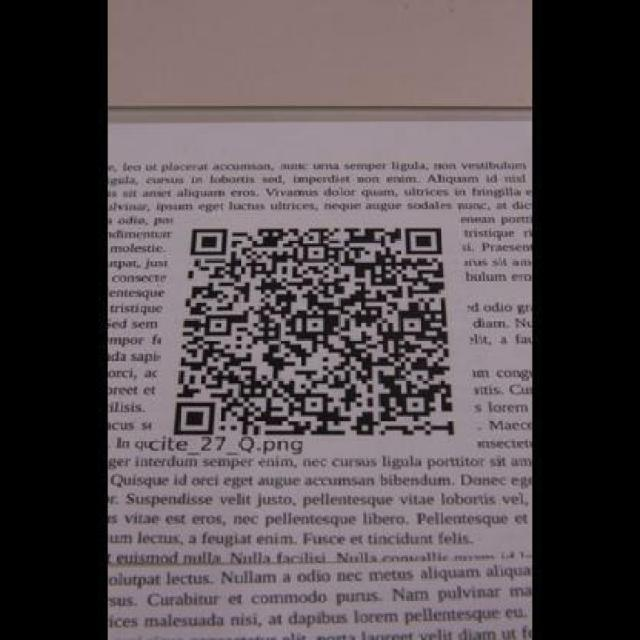QRCode: (166, 219, 474, 440)
